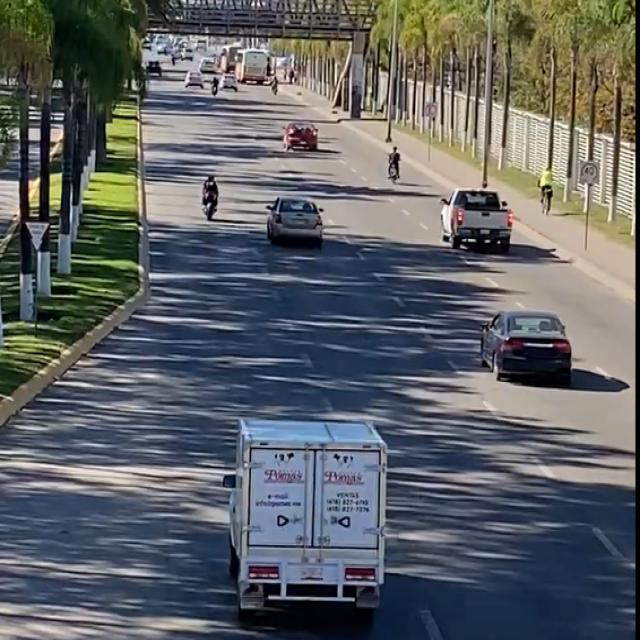Auto: (220, 414, 388, 631), (480, 313, 574, 389), (440, 189, 516, 255), (264, 195, 328, 246), (281, 123, 319, 153)
